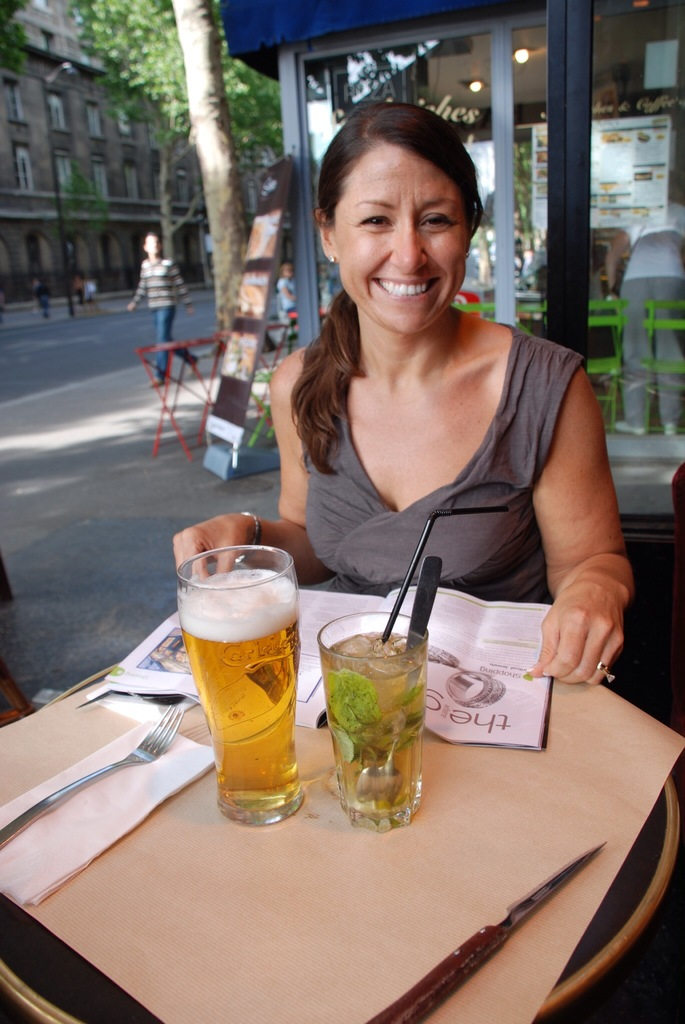Beer: (177, 569, 298, 817)
